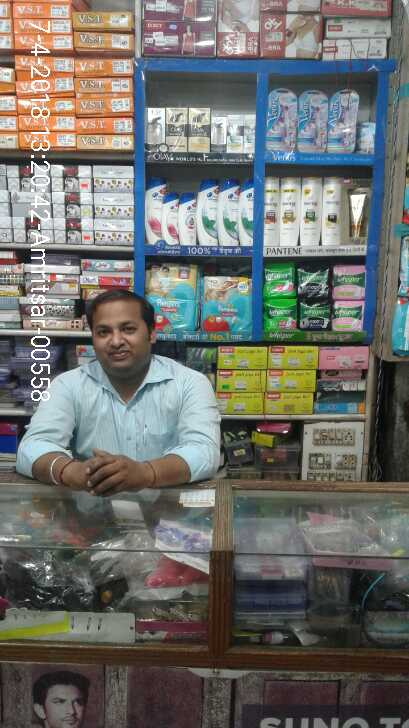venus: (298, 89, 330, 151), (267, 87, 298, 151), (330, 89, 357, 150), (357, 121, 375, 150)
